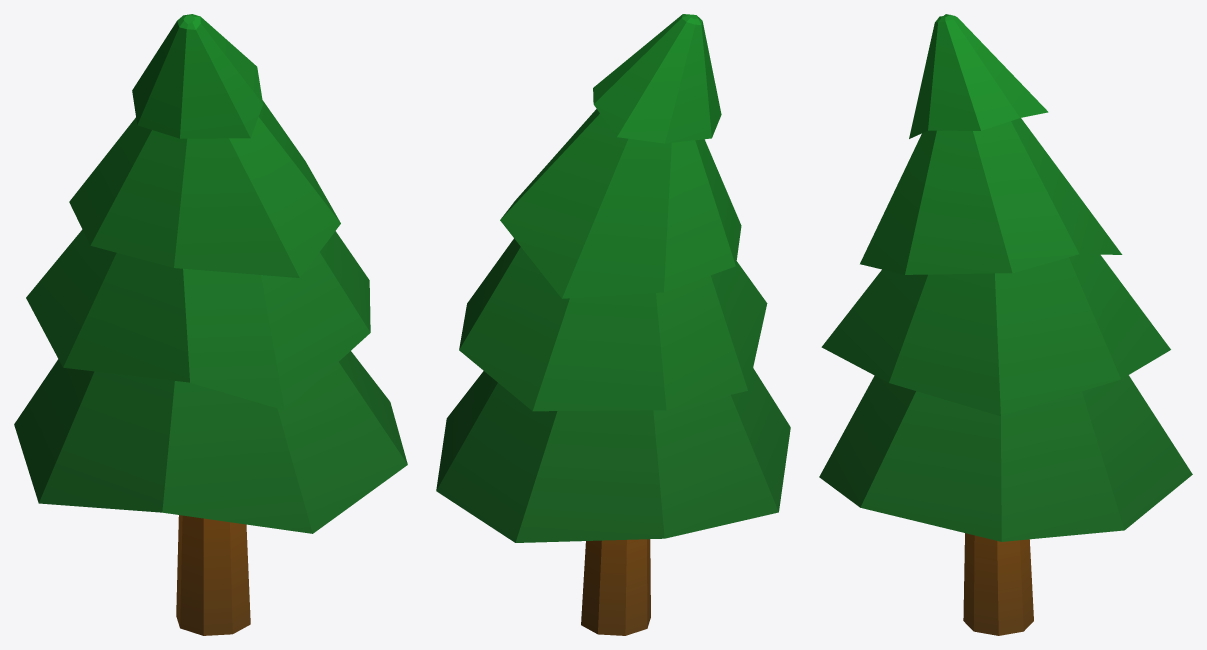
Rendered from Tree_Pine_2.fbx.
3 views of the same model, side by side, from view 1: azimuth 30°, elevation 25°; view 2: azimuth 150°, elevation 25°; view 3: azimuth 270°, elevation 25° (orthographic). The views are drawn at different scales.
Parts seen in each view (by area): view 1: Tree_Pine_2; view 2: Tree_Pine_2; view 3: Tree_Pine_2.
Boxes of the visible parts, left/top/right/bottom form: Tree_Pine_2: left=14, top=14, right=407, bottom=635; Tree_Pine_2: left=436, top=14, right=790, bottom=635; Tree_Pine_2: left=819, top=14, right=1192, bottom=635.
Size of the model in its own units: 452 by 781 by 454.
